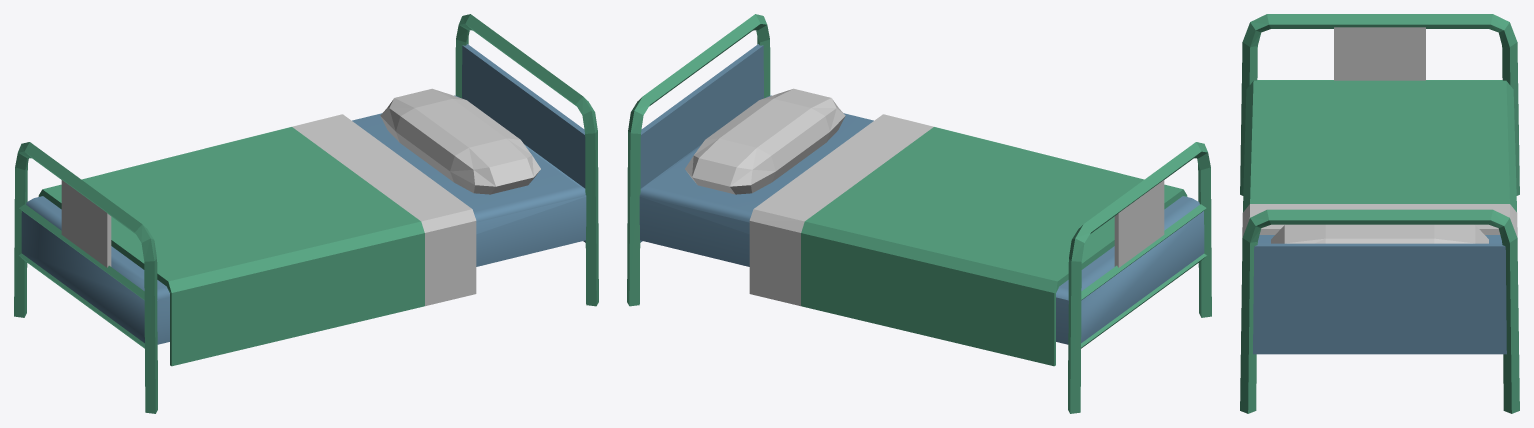
The model's file is bed.dae.
3 views of the same model, side by side, from view 1: azimuth 30°, elevation 25°; view 2: azimuth 150°, elevation 25°; view 3: azimuth 270°, elevation 25° (orthographic).
Visible parts, largest first — view 1: polymsh_Pts_Material__1__Surf, polymsh_Pts_Material__3__Surf, polymsh_Pts_Material__2__Surf; view 2: polymsh_Pts_Material__1__Surf, polymsh_Pts_Material__3__Surf, polymsh_Pts_Material__2__Surf; view 3: polymsh_Pts_Material__1__Surf, polymsh_Pts_Material__3__Surf, polymsh_Pts_Material__2__Surf.
Part boxes in pixels (left/top/right/bottom): polymsh_Pts_Material__1__Surf: left=14, top=14, right=598, bottom=413; polymsh_Pts_Material__3__Surf: left=21, top=44, right=586, bottom=344; polymsh_Pts_Material__2__Surf: left=61, top=88, right=540, bottom=306; polymsh_Pts_Material__1__Surf: left=627, top=14, right=1211, bottom=413; polymsh_Pts_Material__3__Surf: left=639, top=44, right=1204, bottom=344; polymsh_Pts_Material__2__Surf: left=685, top=88, right=1164, bottom=306; polymsh_Pts_Material__1__Surf: left=1240, top=14, right=1519, bottom=413; polymsh_Pts_Material__3__Surf: left=1253, top=235, right=1506, bottom=354; polymsh_Pts_Material__2__Surf: left=1242, top=27, right=1517, bottom=243.
Size of the model in its own units: 23.88 by 10.08 by 12.71.
